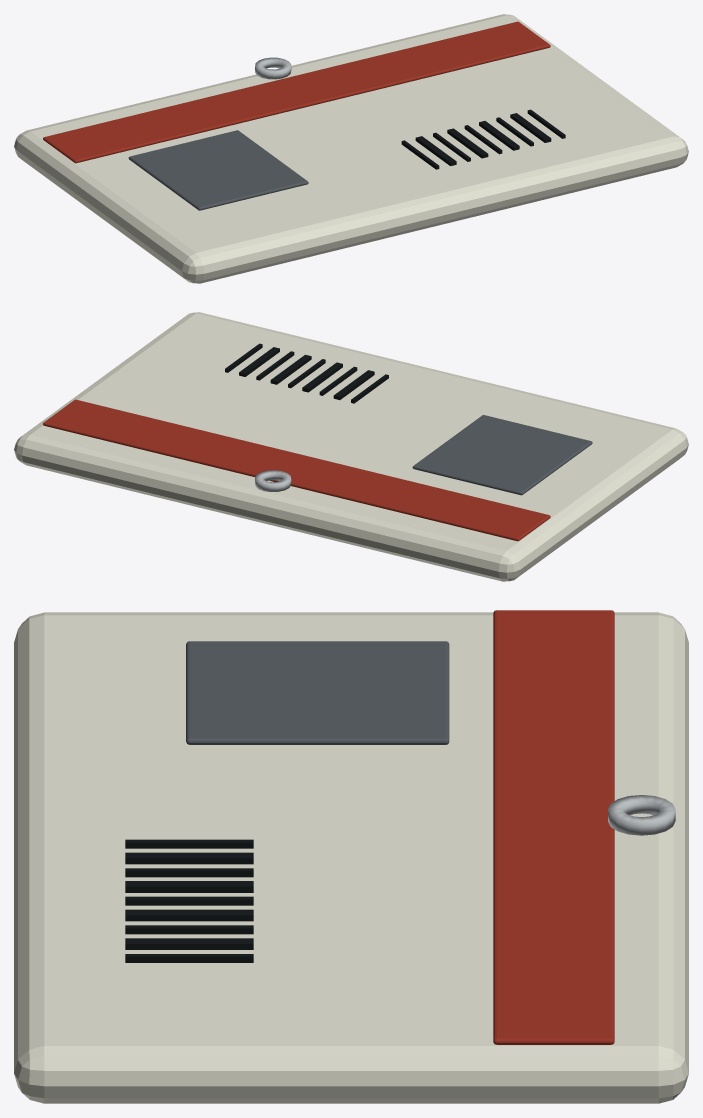
The model's file is hospital_badge.glb.
3 renders of one model, top to bottom at view 1: azimuth 30°, elevation 25°; view 2: azimuth 150°, elevation 25°; view 3: azimuth 270°, elevation 25°, orthographic. The views are drawn at different scales.
Visible parts, largest first — view 1: hospital_badge; view 2: hospital_badge; view 3: hospital_badge.
Part boxes in pixels (box(x1,y1,x2,y2)): hospital_badge: box(14, 14, 688, 283); hospital_badge: box(14, 312, 688, 581); hospital_badge: box(14, 610, 688, 1103).
Bounding box in the file's own units: 0.16 × 0.0125 × 0.1.
